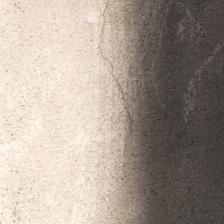Crack: (98, 4, 140, 180)
